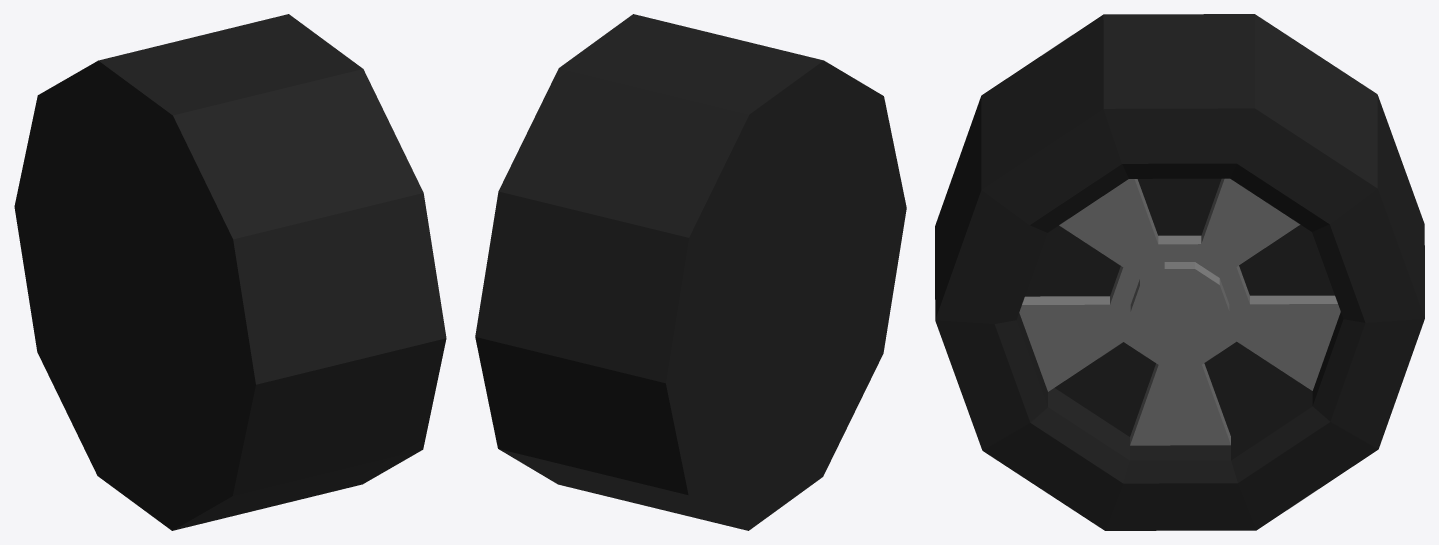
File: Wheel_01.glb
3 views of the same model, side by side, from view 1: azimuth 30°, elevation 25°; view 2: azimuth 150°, elevation 25°; view 3: azimuth 270°, elevation 25° (orthographic).
Parts seen in each view (by area): view 1: Wheel_01; view 2: Wheel_01; view 3: Wheel_01.
Part boxes in pixels (x1,y1,x2,y2): Wheel_01: [14, 14, 446, 530]; Wheel_01: [475, 14, 906, 530]; Wheel_01: [935, 14, 1424, 530].
Size of the model in its own units: 0.2755 by 0.5518 by 0.5797.
1 material, 1 textured.
